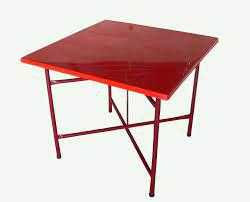desk: (20, 6, 221, 188)
